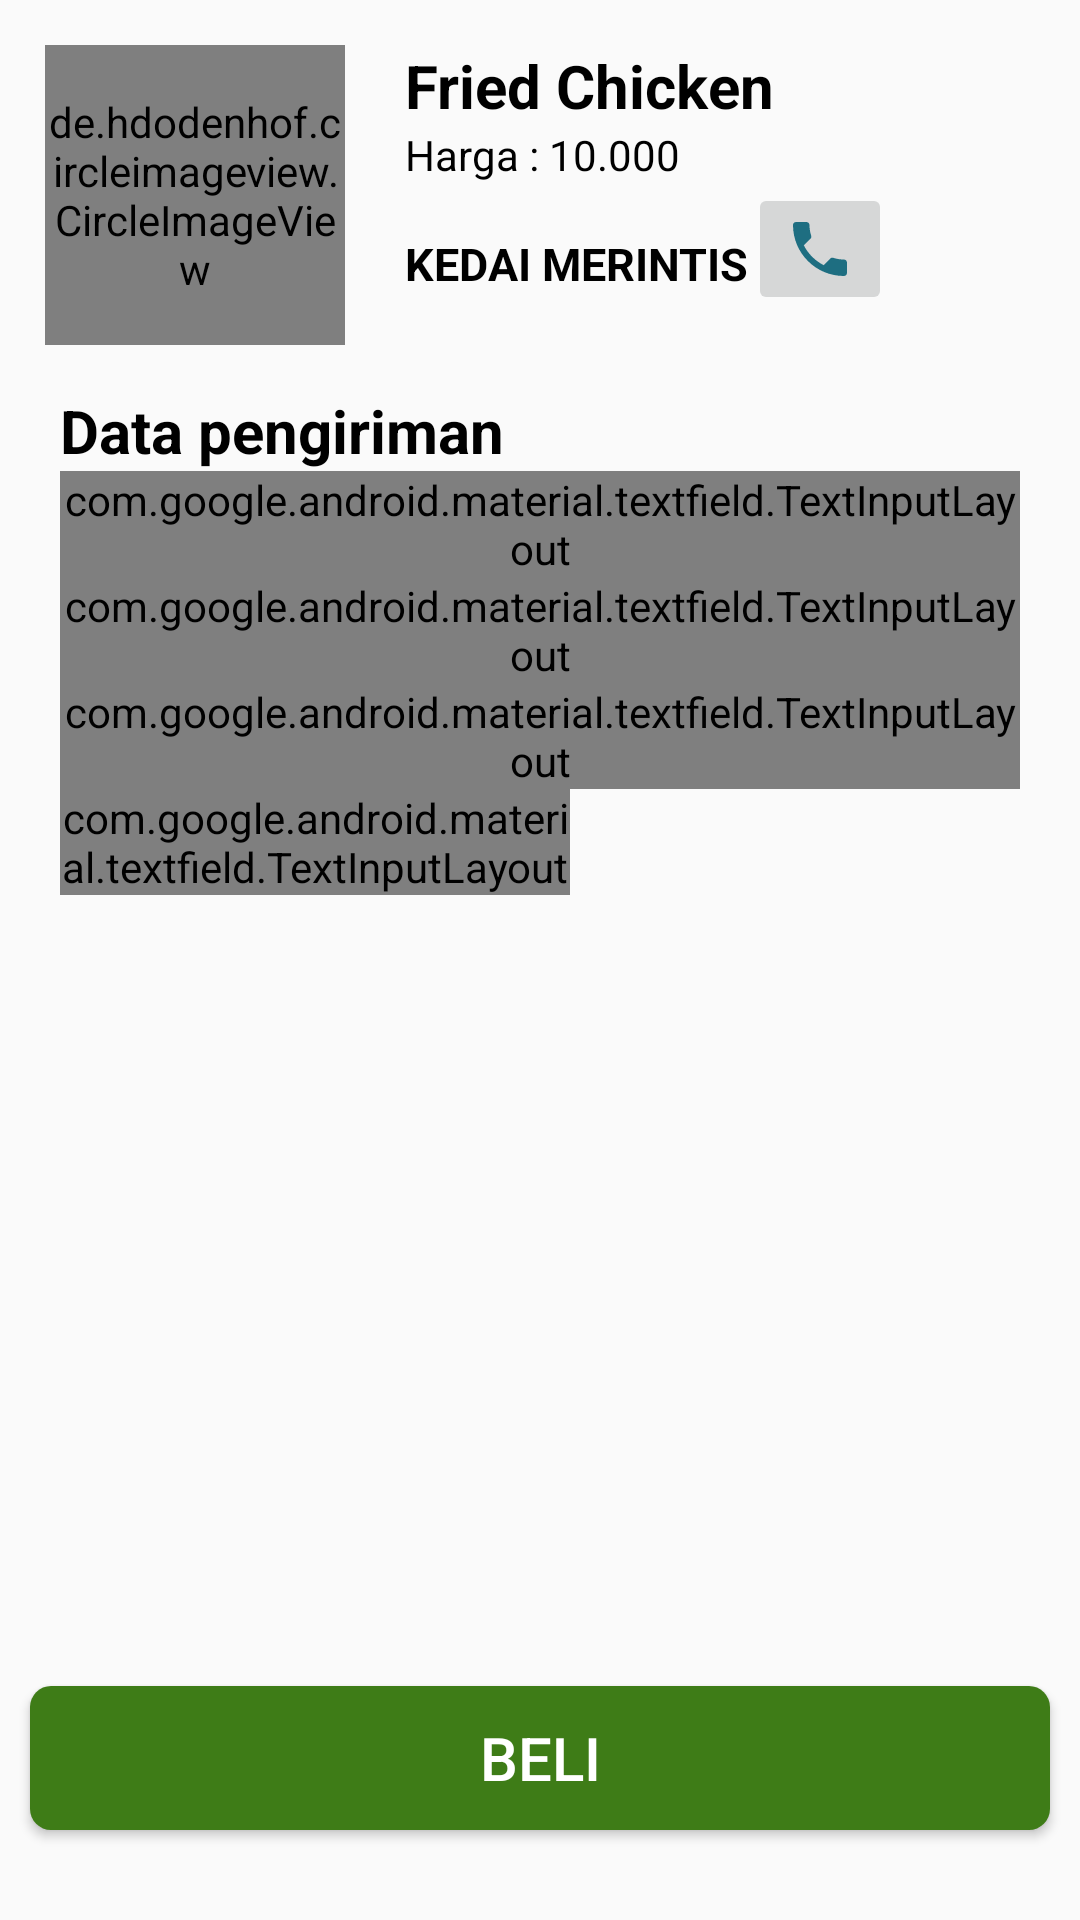

Screen size 1080 × 1920. Icon name, then its box in pixels as detection(x1, y1, x2, y2):
imagephone: detection(760, 201, 880, 297)
